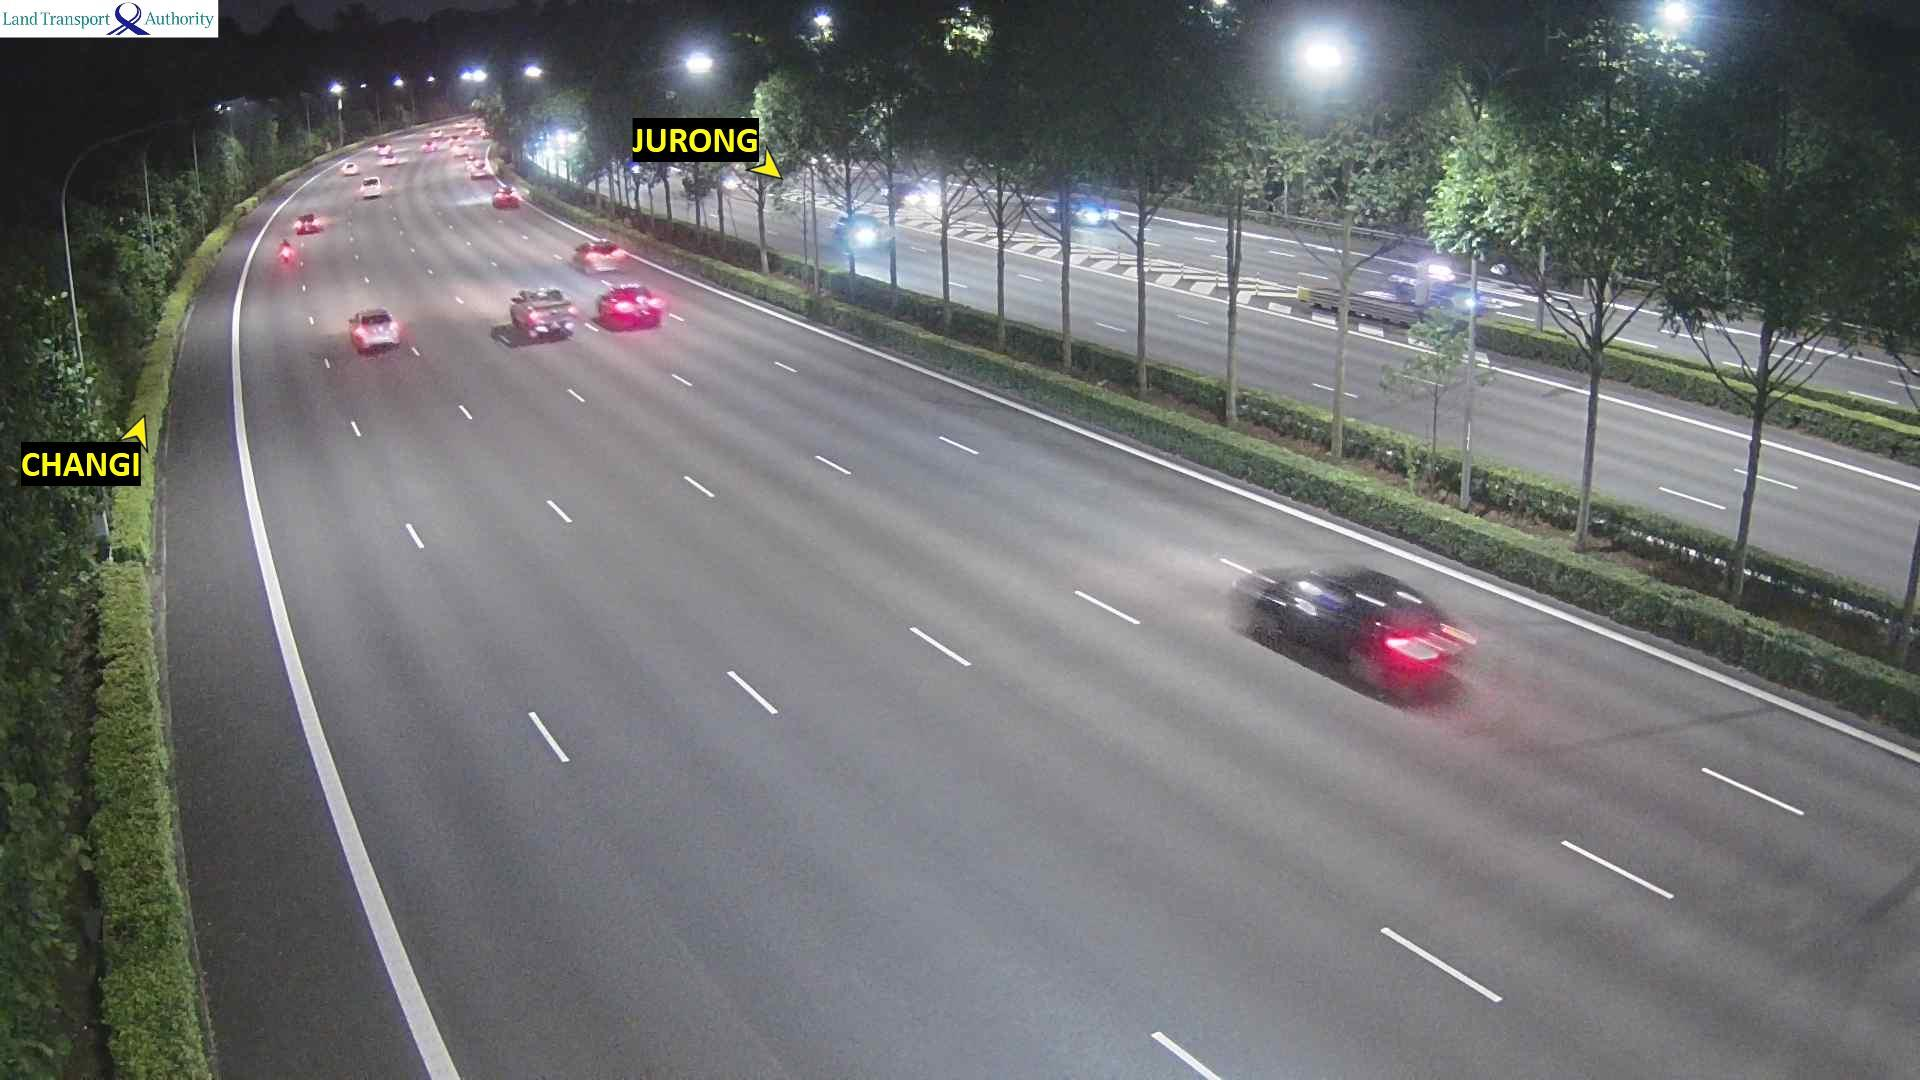incoming: (844, 216, 899, 256), (1068, 198, 1120, 228)
